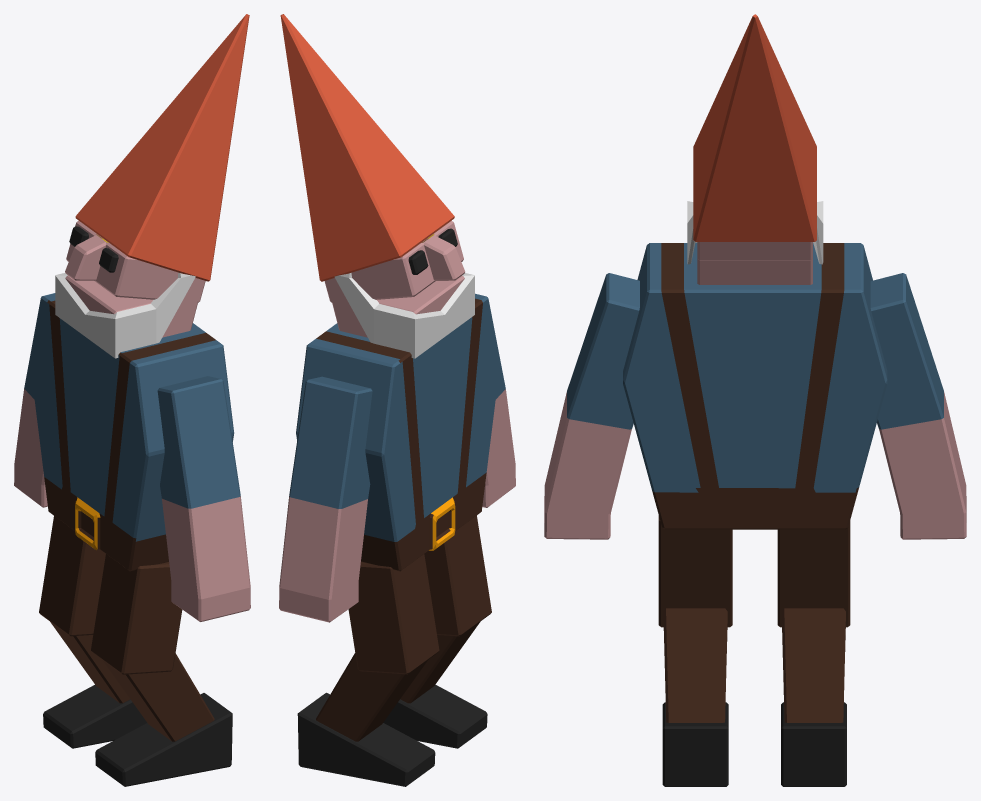
File: gnome_beard.fbx
3 views of the same model, side by side, from view 1: azimuth 30°, elevation 25°; view 2: azimuth 150°, elevation 25°; view 3: azimuth 270°, elevation 25° (orthographic). The views are drawn at different scales.
Parts seen in each view (by area): view 1: Cube.002; view 2: Cube.002; view 3: Cube.002.
Part boxes in pixels (x1=…): Cube.002: x1=14, y1=14, x2=250, y2=786; Cube.002: x1=279, y1=14, x2=515, y2=786; Cube.002: x1=544, y1=14, x2=966, y2=786.
Bounding box in the file's own units: 0.6869 × 2.59 × 1.23.
